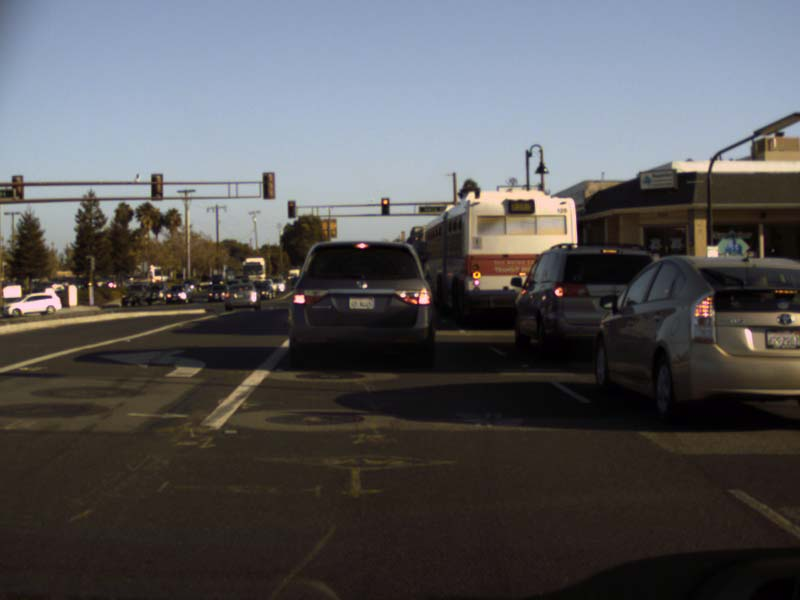Red: (287, 200, 295, 217), (381, 198, 388, 215)
